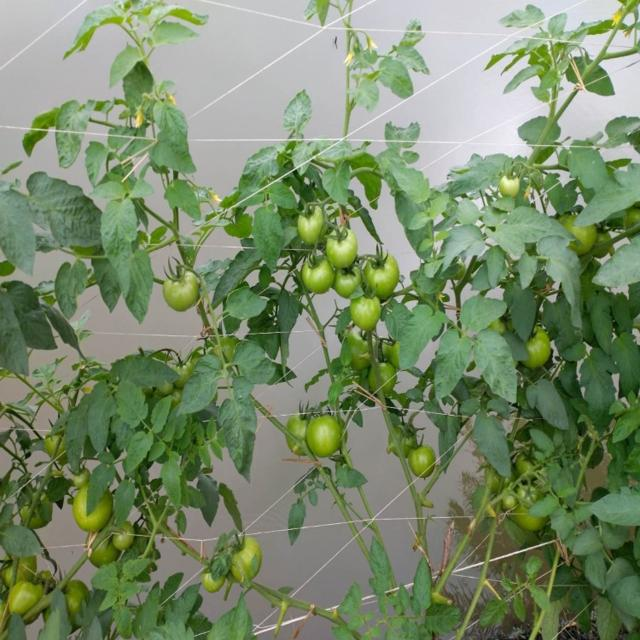tomato: (163, 269, 203, 313), (362, 253, 401, 298), (310, 412, 345, 461), (348, 296, 384, 333), (324, 232, 358, 269), (8, 579, 42, 615), (296, 205, 325, 245), (411, 445, 439, 484), (233, 533, 261, 572), (305, 256, 331, 294), (527, 330, 552, 368), (74, 494, 99, 529), (573, 228, 603, 256), (497, 175, 524, 203), (337, 267, 360, 297), (7, 560, 38, 581), (173, 357, 197, 384), (71, 582, 90, 616), (95, 541, 123, 564), (112, 525, 141, 547), (288, 414, 312, 439), (520, 451, 541, 478), (203, 573, 222, 593), (520, 484, 538, 504), (503, 498, 524, 514), (74, 467, 90, 487), (47, 436, 62, 456)
